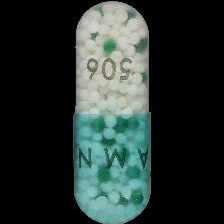10544-919: (0, 0, 224, 224)
